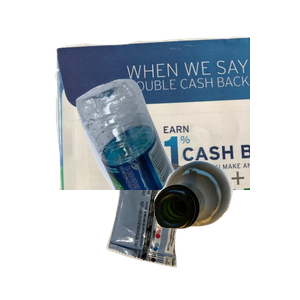glass: (151, 158, 300, 300)
paper: (52, 34, 292, 214)
plastic: (73, 76, 300, 256)
trash: (104, 152, 280, 300)
